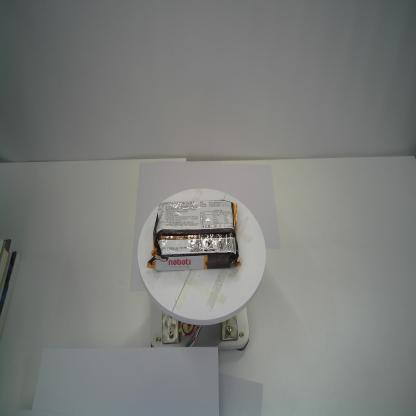Dessert: (146, 200, 241, 271)
